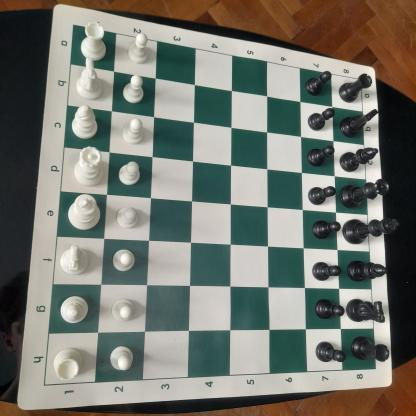black-bishop: (344, 258, 388, 288), (338, 145, 379, 174)
black-king: (341, 217, 400, 247)
black-knight: (337, 108, 381, 140), (345, 297, 387, 324)
black-pawn: (313, 339, 347, 369), (314, 296, 346, 326), (310, 215, 342, 243), (302, 69, 332, 98), (306, 106, 336, 135), (311, 260, 343, 284), (306, 142, 336, 167), (306, 183, 336, 208)
black-queen: (338, 177, 390, 209)
black-rook: (350, 334, 390, 365), (337, 72, 373, 106)
white-bishop: (57, 290, 91, 326), (69, 104, 102, 141)
white-king: (64, 192, 104, 232)
white-knight: (71, 56, 107, 102), (58, 244, 92, 280)
white-pawn: (124, 32, 154, 65), (120, 71, 148, 106), (106, 343, 137, 373), (121, 117, 148, 149), (116, 158, 142, 189), (110, 297, 136, 326), (111, 247, 136, 274), (116, 204, 140, 232)
white-queen: (71, 143, 107, 188)
white-rook: (76, 18, 109, 62), (50, 347, 85, 383)
